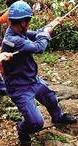boots: (18, 131, 31, 145), (0, 88, 12, 99)
gloves: (42, 10, 71, 35), (0, 51, 13, 61)
hard-hat: (8, 0, 33, 20)
ppe-suit: (0, 16, 27, 113)
